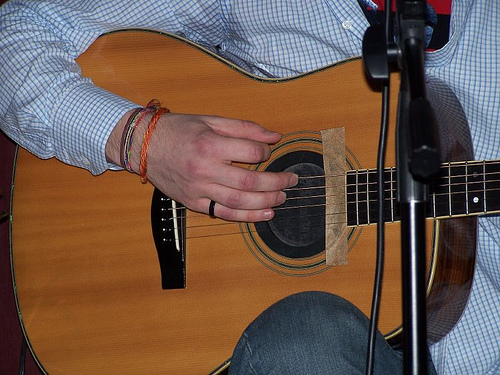guitar: (9, 28, 498, 375)
